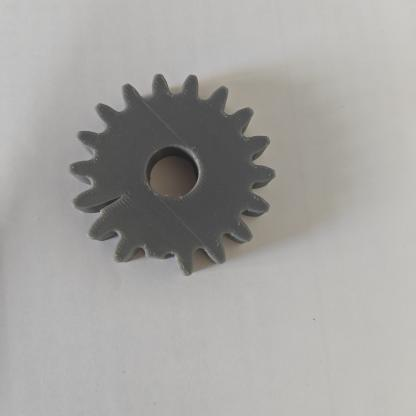defect: (108, 220, 196, 288), (66, 166, 136, 241)
gear: (52, 64, 293, 299)
